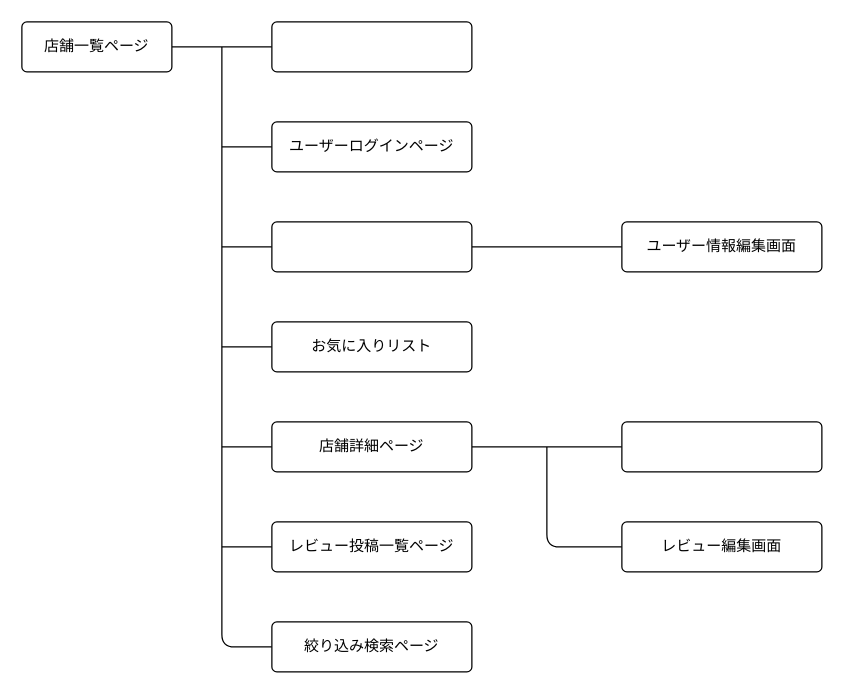
The diagram is 844 pixels wide and 694 high, and some of its shapes have lost their labels. Each missing label, with the centre of its shape:
プロフィール画面: [371,246]
ユーザー新規登録ページ: [371,46]
レビュー投稿画面: [721,446]
